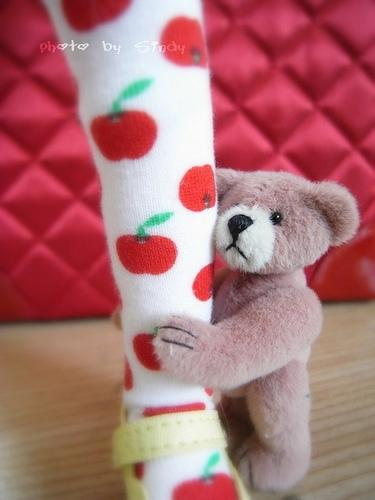apple: (90, 78, 158, 160), (116, 212, 178, 274), (172, 451, 240, 499), (160, 16, 208, 69), (61, 0, 132, 33), (178, 164, 216, 212), (133, 326, 161, 370), (192, 260, 214, 302), (143, 402, 205, 416), (124, 354, 132, 390), (132, 461, 144, 480), (205, 388, 214, 396)
